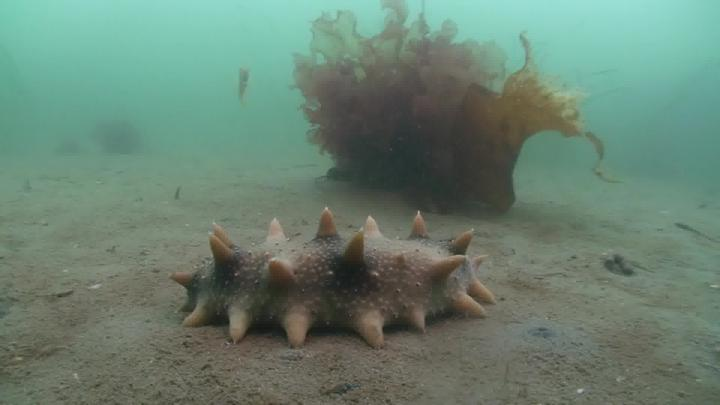holothurian: (161, 210, 499, 346)
